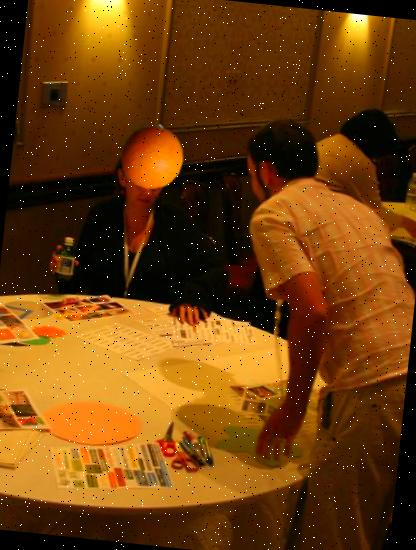Orange: (115, 120, 188, 193)
